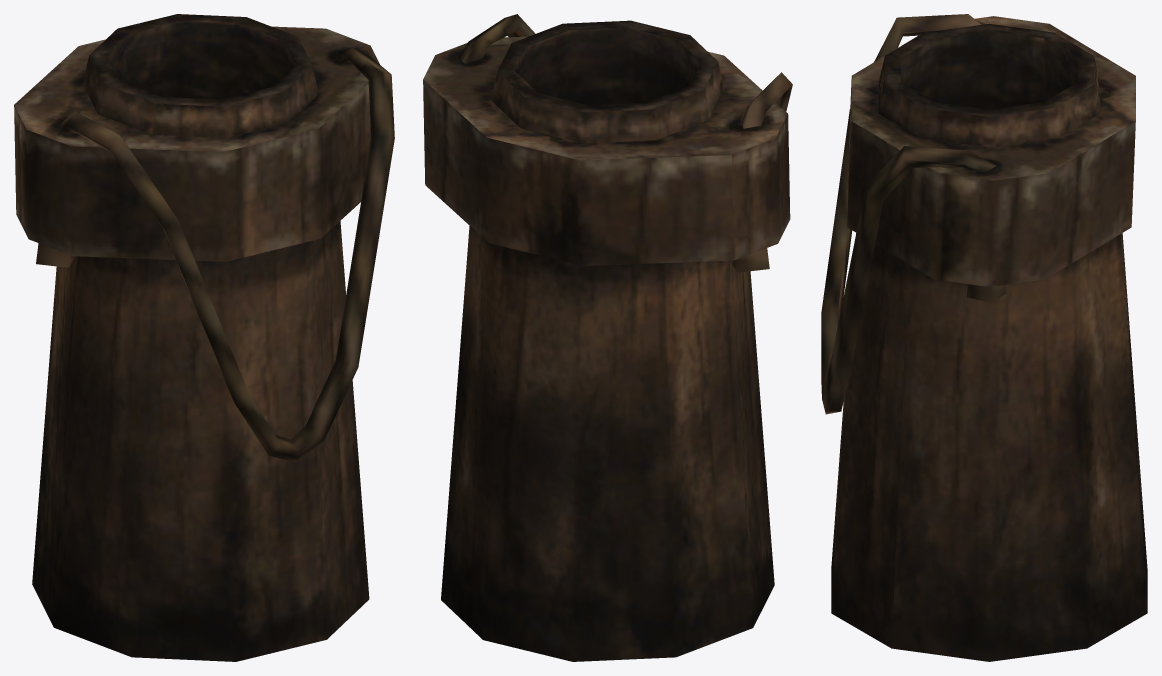
File: bucket_of_tar.dae
3 renders of one model, left to right at view 1: azimuth 30°, elevation 25°; view 2: azimuth 150°, elevation 25°; view 3: azimuth 270°, elevation 25°, orthographic.
Visible parts, largest first — view 1: Cylinder01; view 2: Cylinder01; view 3: Cylinder01.
Boxes of the visible parts, x1,y1,x2,y2 form: Cylinder01: (14,14,394,661); Cylinder01: (423,14,792,661); Cylinder01: (821,14,1147,661).
Bounding box in the file's own units: 0.2422 × 0.2027 × 0.3575.
